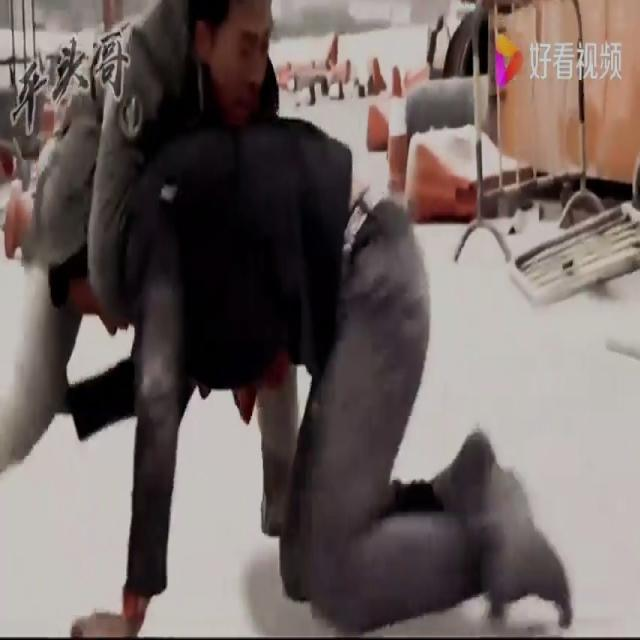fight: (0, 1, 574, 639)
